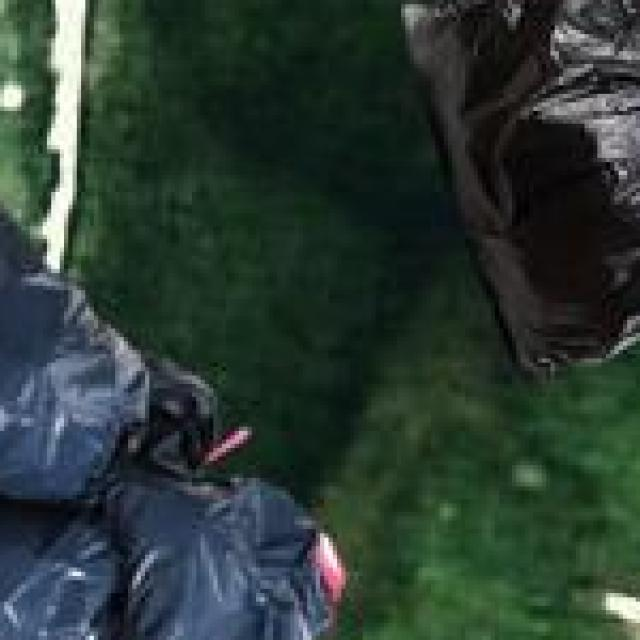Trashbag: (418, 10, 640, 319), (0, 271, 211, 543), (129, 468, 332, 639)
